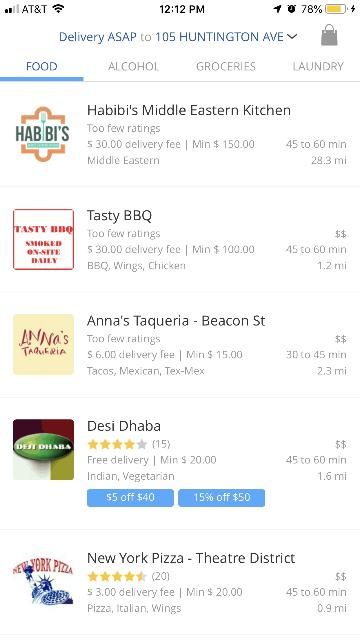Icon: (88, 570, 148, 582), (87, 438, 147, 449), (320, 24, 338, 46), (286, 33, 298, 39)
Image: (12, 208, 74, 270), (12, 314, 74, 374), (12, 420, 74, 480), (15, 106, 69, 162), (13, 557, 73, 605)
List: (0, 82, 360, 640)
Multi_Tab: (0, 54, 360, 82)
Text: (86, 228, 253, 272), (86, 124, 253, 164), (86, 334, 242, 376), (86, 588, 242, 614), (88, 456, 216, 482), (59, 32, 282, 44), (87, 315, 265, 329), (88, 104, 290, 116), (88, 552, 294, 562), (87, 210, 151, 223), (88, 420, 160, 430), (286, 588, 346, 596), (286, 456, 346, 464), (286, 350, 346, 358), (286, 245, 346, 253), (286, 140, 346, 148), (196, 62, 256, 70), (108, 61, 158, 70), (195, 493, 250, 501), (293, 62, 343, 70), (108, 493, 154, 501), (310, 156, 346, 164), (27, 62, 57, 70), (317, 604, 345, 612), (318, 472, 346, 480), (317, 367, 345, 375), (318, 261, 346, 269), (153, 572, 170, 582), (153, 439, 170, 448), (334, 572, 346, 580), (334, 440, 346, 448), (334, 335, 346, 343), (334, 230, 346, 238)
TextButton: (86, 489, 174, 506), (178, 489, 266, 506)
UpperTaskBar: (0, 0, 360, 14)
